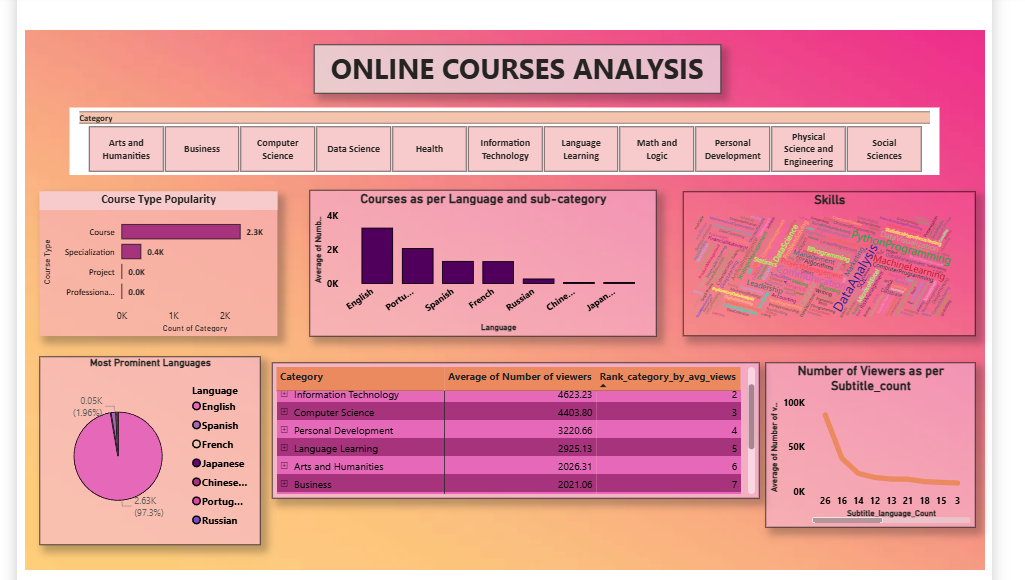

The page's visual inventory and layout, read from the dashboard file:
{"tool":"powerbi","page":{"name":"Page 1","canvas":[1300,1500],"ordinal":0},"visuals":[{"type":"textbox","box":[395,405,542.5,65],"z":0},{"type":"slicer","fields":{"Values":["Online_Courses.Category"]},"box":[70,490,1160,90],"z":1000},{"type":"clusteredBarChart","title":"Course Type Popularity","fields":{"Category":["Online_Courses.Course Type"],"Y":["CountNonNull(Online_Courses.Category)"]},"box":[30,602.5,317.5,192.5],"z":2000},{"type":"columnChart","title":"Courses as per Language and sub-category","fields":{"Category":["Online_Courses.Language"],"Y":["Avg(Online_Courses.Number of viewers)"]},"box":[390,600,462.5,195],"z":3000},{"type":"actionButton","box":[0,0,100,40],"z":4000},{"type":"WordCloud1447959067750","fields":{"Category":["Online_Courses.Skills"]},"box":[887.5,602.5,390,192.5],"z":5000},{"type":"pieChart","title":"Most Prominent Languages","fields":{"Category":["Online_Courses.Language"],"Y":["CountNonNull(Online_Courses.CourseID)"]},"box":[29.9,822.3,294.6,251.1],"z":6000},{"type":"pivotTable","fields":{"Rows":["Online_Courses.Category","Online_Courses.Language"],"Values":["Avg(Online_Courses.Number of viewers)","Online_Courses.Rank_category_by_avg_views"]},"box":[339.1,831,650,181.5],"z":7000},{"type":"lineChart","title":"Number of Viewers as per Subtitle_count","fields":{"Y":["Avg(Online_Courses.Number of viewers)"],"Category":["Online_Courses.Subtitle_language_Count"]},"box":[997.8,831,279.9,220.1],"z":7001}]}

Visuals, with their boxes on the page's 1300x1500 design canvas (x1, y1, x2, y2). These are canvas units, not pixel positions in the 1025x580 screenshot, which may show the page scaled, cropped or inside an application window:
textbox: x1=395 y1=405 x2=938 y2=470
slicer - Online_Courses.Category: x1=70 y1=490 x2=1230 y2=580
"Course Type Popularity" clusteredBarChart: x1=30 y1=602 x2=348 y2=795
"Courses as per Language and sub-category" columnChart: x1=390 y1=600 x2=852 y2=795
actionButton: x1=0 y1=0 x2=100 y2=40
WordCloud1447959067750 - Online_Courses.Skills: x1=888 y1=602 x2=1278 y2=795
"Most Prominent Languages" pieChart: x1=30 y1=822 x2=324 y2=1073
pivotTable - Online_Courses.Category x Online_Courses.Language: x1=339 y1=831 x2=989 y2=1012
"Number of Viewers as per Subtitle_count" lineChart: x1=998 y1=831 x2=1278 y2=1051
